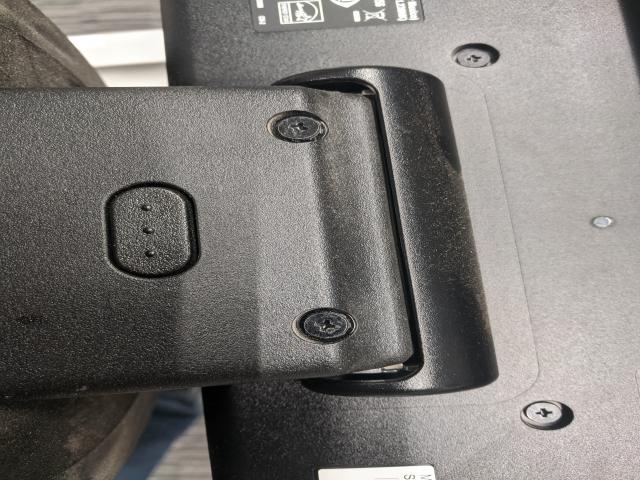CRS: (297, 312, 352, 342), (278, 115, 324, 141), (520, 402, 568, 424), (459, 49, 492, 68)
